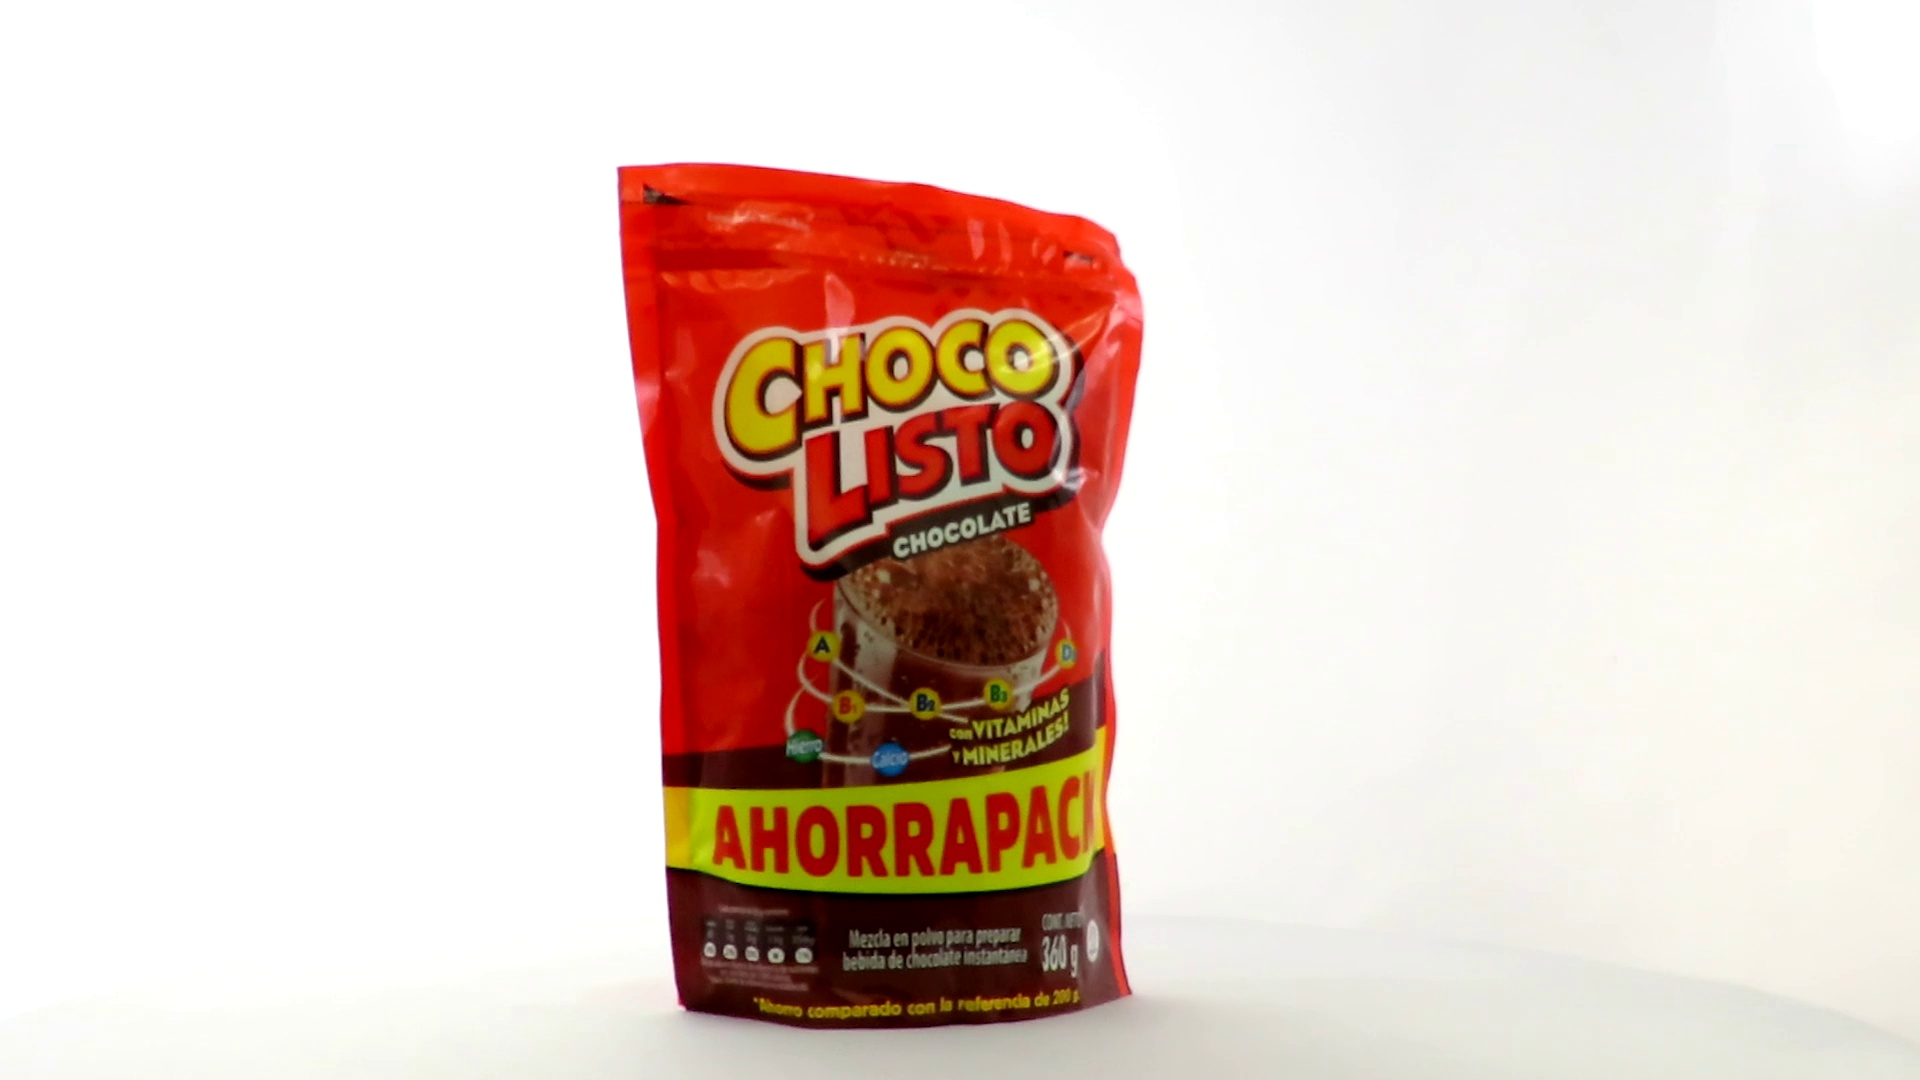COL0170103DYP36000: (612, 157, 1150, 1036)
